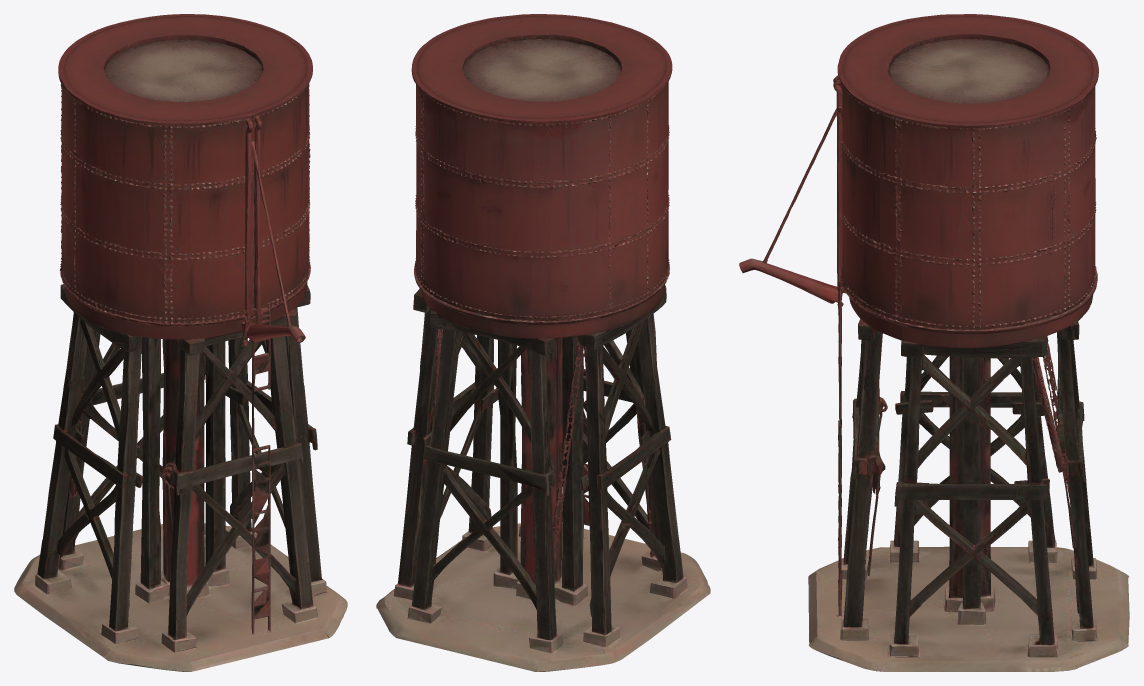
File: tower.glb
3 views of the same model, side by side, from view 1: azimuth 30°, elevation 25°; view 2: azimuth 150°, elevation 25°; view 3: azimuth 270°, elevation 25° (orthographic). The views are drawn at different scales.
Size of the model in its own units: 0.91 by 1.9 by 1.24.
Materials: 1 (1 with a texture image).
